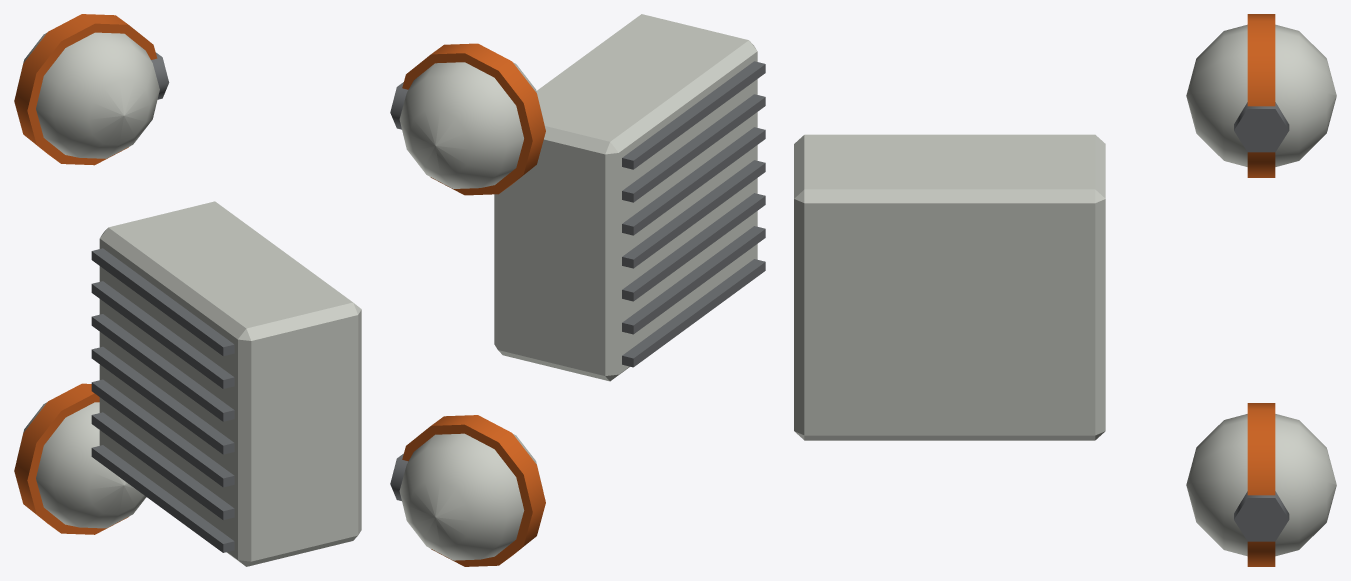
3 views of the same model, side by side, from view 1: azimuth 30°, elevation 25°; view 2: azimuth 150°, elevation 25°; view 3: azimuth 270°, elevation 25° (orthographic). The views are drawn at different scales.
Parts seen in each view (by area): view 1: u33_hx; view 2: u33_hx; view 3: u33_hx.
Part boxes in pixels (x1,y1,x2,y2): u33_hx: (14, 14, 361, 566); u33_hx: (390, 14, 765, 566); u33_hx: (794, 14, 1336, 566).
Bounding box in the file's own units: 0.515 × 1.72 × 1.57.
